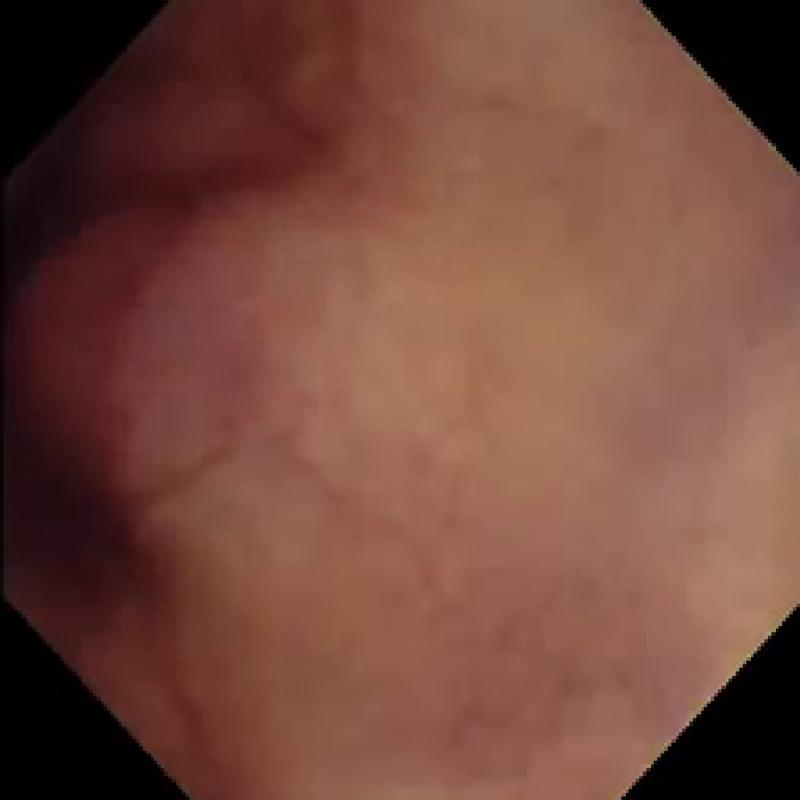bleeding: (0, 32, 332, 650)
